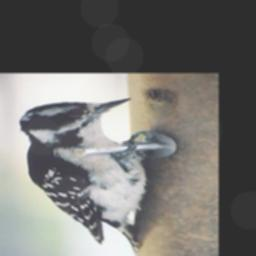Woodpecker: (18, 98, 156, 253)
